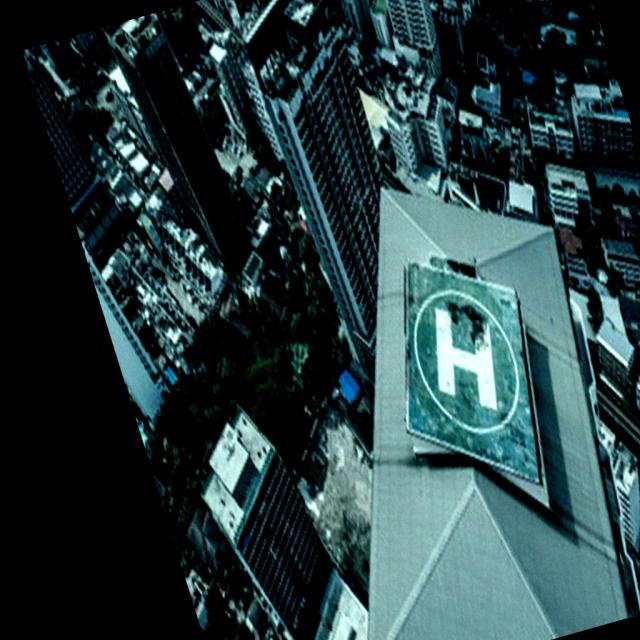helipad: (408, 283, 524, 437)
